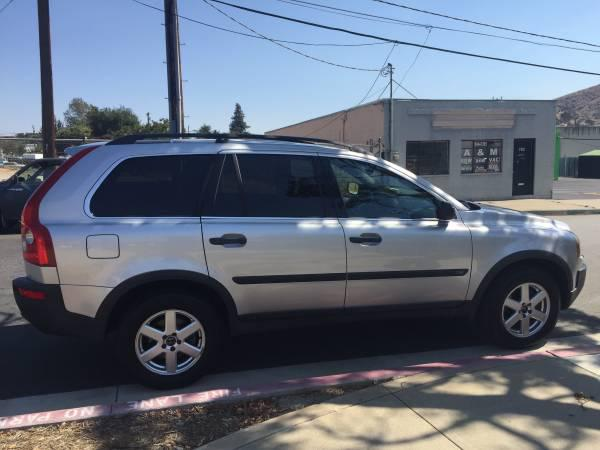volvo: (14, 126, 600, 396)
